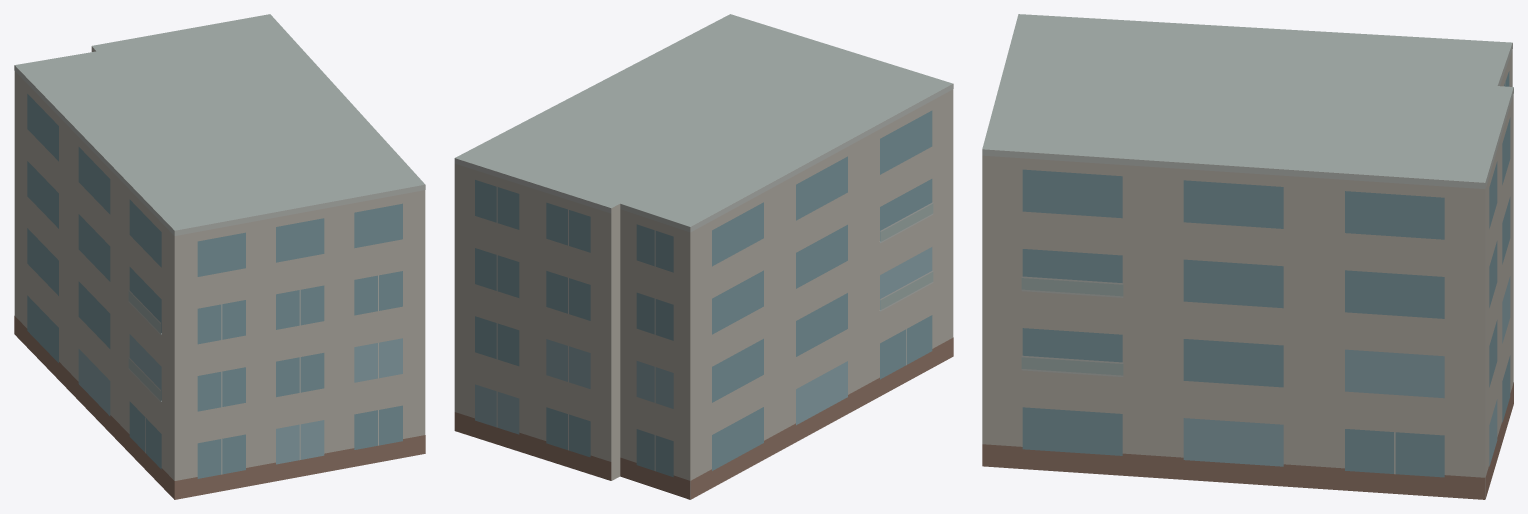
File: survey-upis-32642065.glb
The picture shows the model from 3 angles, left to right: view 1: azimuth 30°, elevation 25°; view 2: azimuth 150°, elevation 25°; view 3: azimuth 270°, elevation 25°; orthographic projection. The views are drawn at different scales.
Visible parts, largest first — view 1: survey-upis-32642065.tmp; view 2: survey-upis-32642065.tmp; view 3: survey-upis-32642065.tmp.
Part boxes in pixels (x1,y1,x2,y2): survey-upis-32642065.tmp: (14, 14, 425, 499); survey-upis-32642065.tmp: (454, 14, 953, 499); survey-upis-32642065.tmp: (982, 14, 1513, 499).
Bounding box in the file's own units: 13.95 × 12.2 × 18.55.
